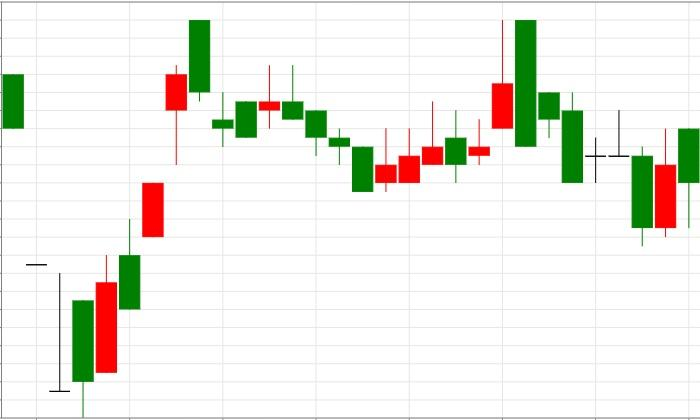bearish_engulfing_fall: (376, 19, 537, 192)
